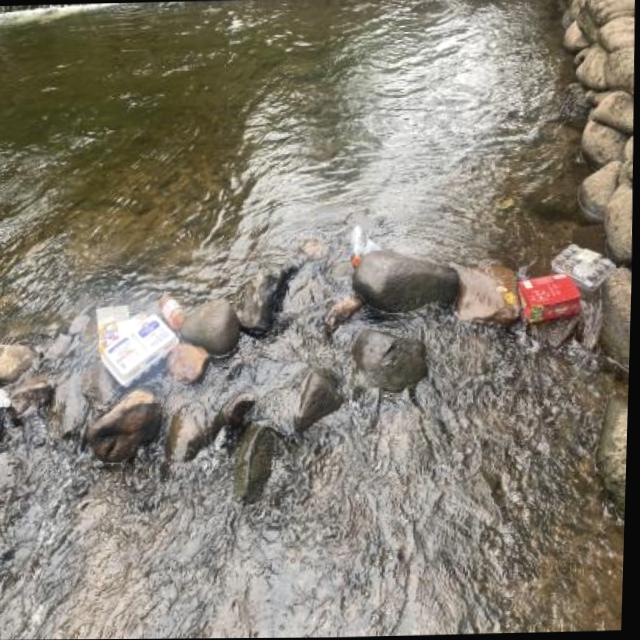Bottle-Glass: (156, 284, 191, 327)
Cardboard: (514, 269, 585, 326)
Plastic: (93, 302, 185, 392), (549, 238, 620, 293), (347, 221, 379, 266)
